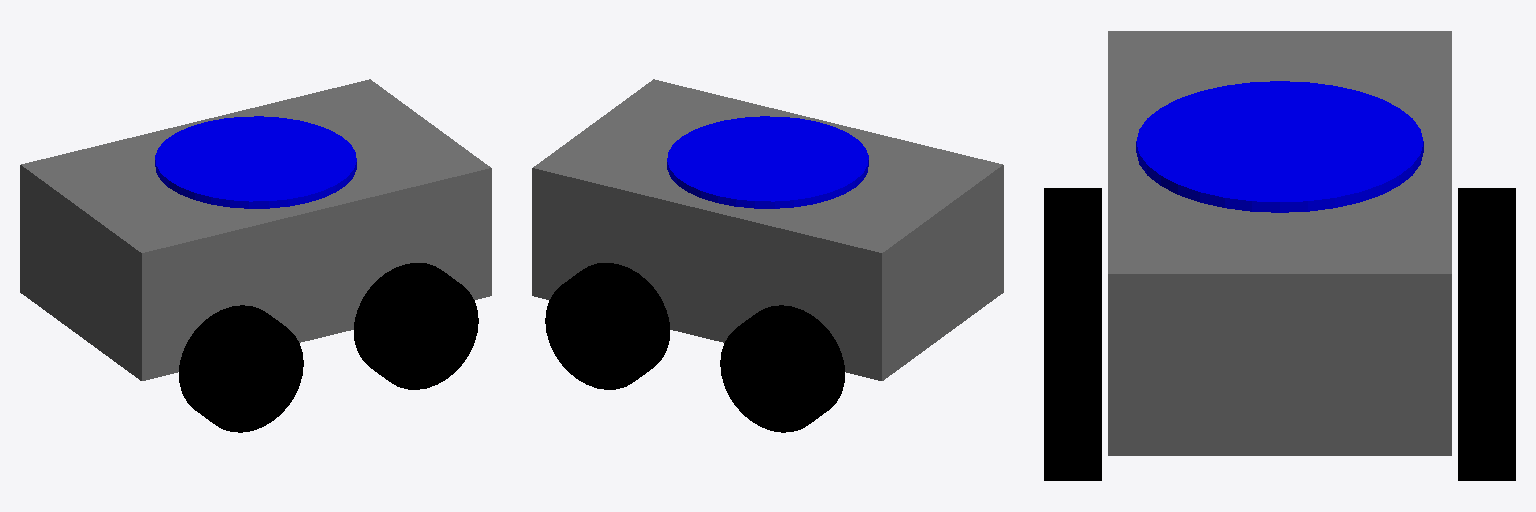
The robot description file, URDF, robot "mobile_charger":
<?xml version="1.0"?>
<robot name="mobile_charger">

  <!-- ================= BASE ================= -->
  <link name="base_link">
    <visual>
      <geometry>
        <box size="1.0 0.6 0.35"/>
      </geometry>
      <material name="grey">
        <color rgba="0.5 0.5 0.5 1.0"/>
      </material>
    </visual>
    <collision>
      <geometry>
        <box size="1.0 0.6 0.35"/>
      </geometry>
    </collision>
    <inertial>
      <mass value="30.0"/>
      <inertia ixx="2.0" iyy="2.5" izz="3.0" ixy="0" ixz="0" iyz="0"/>
    </inertial>
  </link>

  <!-- ================= WHEEL MACRO ================= -->
  <!-- We define links manually for clarity -->

  <!-- FRONT LEFT -->
  <link name="front_left_wheel">
    <visual>
      <origin rpy="1.5707 0 0"/>
      <geometry>
        <cylinder radius="0.15" length="0.1"/>
      </geometry>
      <material name="black">
        <color rgba="0 0 0 1"/>
      </material>
    </visual>
    <!-- SPOKE FOR ROTATION VISUALIZATION -->
    <visual>
      <origin rpy="0 0 0"/> 
      <geometry>
        <box size="0.25 0.02 0.11"/>
      </geometry>
      <material name="white">
        <color rgba="1 1 1 1"/>
      </material>
    </visual>
    <collision>
      <origin rpy="1.5707 0 0"/>
      <geometry>
        <cylinder radius="0.15" length="0.1"/>
      </geometry>
    </collision>
    <inertial>
      <mass value="2.0"/>
      <inertia ixx="0.02" iyy="0.02" izz="0.01" ixy="0" ixz="0" iyz="0"/>
    </inertial>
  </link>

  <!-- FRONT RIGHT -->
  <link name="front_right_wheel">
    <visual>
      <origin rpy="1.5707 0 0"/>
      <geometry>
        <cylinder radius="0.15" length="0.1"/>
      </geometry>
      <material name="black">
        <color rgba="0 0 0 1"/>
      </material>
    </visual>
    <visual>
       <origin rpy="0 0 0"/> 
       <geometry>
         <box size="0.25 0.02 0.11"/>
       </geometry>
       <material name="white">
         <color rgba="1 1 1 1"/>
       </material>
    </visual>
    <collision>
      <origin rpy="1.5707 0 0"/>
      <geometry>
        <cylinder radius="0.15" length="0.1"/>
      </geometry>
    </collision>
    <inertial>
      <mass value="2.0"/>
      <inertia ixx="0.02" iyy="0.02" izz="0.01" ixy="0" ixz="0" iyz="0"/>
    </inertial>
  </link>

  <!-- REAR LEFT (Passive) -->
  <link name="rear_left_wheel">
    <visual>
      <origin rpy="1.5707 0 0"/>
      <geometry>
        <cylinder radius="0.15" length="0.1"/>
      </geometry>
      <material name="black">
        <color rgba="0 0 0 1"/>
      </material>
    </visual>
    <visual>
       <origin rpy="0 0 0"/> 
       <geometry>
         <box size="0.25 0.02 0.11"/>
       </geometry>
       <material name="white"/>
    </visual>
    <collision>
      <origin rpy="1.5707 0 0"/>
      <geometry>
        <cylinder radius="0.15" length="0.1"/>
      </geometry>
    </collision>
    <inertial>
      <mass value="2.0"/>
      <inertia ixx="0.02" iyy="0.02" izz="0.01" ixy="0" ixz="0" iyz="0"/>
    </inertial>
  </link>

  <!-- REAR RIGHT (Passive) -->
  <link name="rear_right_wheel">
    <visual>
      <origin rpy="1.5707 0 0"/>
      <geometry>
        <cylinder radius="0.15" length="0.1"/>
      </geometry>
      <material name="black">
        <color rgba="0 0 0 1"/>
      </material>
    </visual>
     <visual>
       <origin rpy="0 0 0"/> 
       <geometry>
         <box size="0.25 0.02 0.11"/>
       </geometry>
       <material name="white"/>
    </visual>
    <collision>
      <origin rpy="1.5707 0 0"/>
      <geometry>
        <cylinder radius="0.15" length="0.1"/>
      </geometry>
    </collision>
    <inertial>
      <mass value="2.0"/>
      <inertia ixx="0.02" iyy="0.02" izz="0.01" ixy="0" ixz="0" iyz="0"/>
    </inertial>
  </link>

  <!-- ================= JOINTS ================= -->
  <!-- FRONT DRIVEN -->
  <joint name="front_left_joint" type="continuous">
    <parent link="base_link"/>
    <child link="front_left_wheel"/>
    <origin xyz="0.25 0.36 -0.175" rpy="0 0 0"/>
    <axis xyz="0 1 0"/>
  </joint>

  <joint name="front_right_joint" type="continuous">
    <parent link="base_link"/>
    <child link="front_right_wheel"/>
    <origin xyz="0.25 -0.36 -0.175" rpy="0 0 0"/>
    <axis xyz="0 1 0"/>
  </joint>

  <!-- REAR PASSIVE -->
  <joint name="rear_left_joint" type="continuous">
    <parent link="base_link"/>
    <child link="rear_left_wheel"/>
    <origin xyz="-0.25 0.36 -0.175" rpy="0 0 0"/>
    <axis xyz="0 1 0"/>
  </joint>

  <joint name="rear_right_joint" type="continuous">
    <parent link="base_link"/>
    <child link="rear_right_wheel"/>
    <origin xyz="-0.25 -0.36 -0.175" rpy="0 0 0"/>
    <axis xyz="0 1 0"/>
  </joint>

  <!-- ================= CHARGING PAD ================= -->
  <link name="charging_pad">
    <visual>
      <geometry>
        <cylinder radius="0.25" length="0.02"/>
      </geometry>
      <material name="blue">
        <color rgba="0 0 1 1"/>
      </material>
    </visual>
  </link>

  <joint name="pad_joint" type="fixed">
    <parent link="base_link"/>
    <child link="charging_pad"/>
    <origin xyz="0 0 0.185"/>
  </joint>

  <!-- ================= GAZEBO PLUGIN ================= -->
  <gazebo>
    <plugin name="diff_drive" filename="libgazebo_ros_diff_drive.so">
      <!-- Drive Front Wheels -->
      <leftJoint>front_left_joint</leftJoint>
      <rightJoint>front_right_joint</rightJoint>

      <wheelSeparation>0.72</wheelSeparation>
      <wheelDiameter>0.3</wheelDiameter>
      <wheelAcceleration>1.0</wheelAcceleration>
      <wheelTorque>20</wheelTorque>

      <robotBaseFrame>base_link</robotBaseFrame>
      <commandTopic>cmd_vel</commandTopic>
      <odometryTopic>odom</odometryTopic>
      <odometryFrame>odom</odometryFrame>
      <odometrySource>1</odometrySource>

      <publishTf>true</publishTf>
      <publishOdomTF>true</publishOdomTF>
      <publishWheelTF>true</publishWheelTF>
      <publishWheelJointState>true</publishWheelJointState>
      
      <rosDebugLevel>na</rosDebugLevel>
      <updateRate>30</updateRate>
    </plugin>
  </gazebo>

  <!-- ================= GAZEBO MATERIALS ================= -->
  <gazebo reference="base_link">
    <material>Gazebo/Grey</material>
  </gazebo>
  
  <gazebo reference="charging_pad">
    <material>Gazebo/Blue</material>
  </gazebo>

  <gazebo reference="front_left_wheel">
    <material>Gazebo/Black</material>
    <mu1>0.8</mu1> <mu2>0.8</mu2>
  </gazebo>
  <gazebo reference="front_right_wheel">
    <material>Gazebo/Black</material>
    <mu1>0.8</mu1> <mu2>0.8</mu2>
  </gazebo>
  <gazebo reference="rear_left_wheel">
    <material>Gazebo/Black</material>
    <mu1>0.0</mu1> <mu2>0.0</mu2> <!-- Slippery rear wheels to prevent diff drive binding -->
  </gazebo>
  <gazebo reference="rear_right_wheel">
    <material>Gazebo/Black</material>
    <mu1>0.0</mu1> <mu2>0.0</mu2>
  </gazebo>

</robot>

--- Render facts (derived) ---
3 views of the same robot in one strip: view 1: azimuth 30°, elevation 25°; view 2: azimuth 150°, elevation 25°; view 3: azimuth 270°, elevation 25° (orthographic).
Robot: mobile_charger — 6 links, 5 joints (4 continuous, 1 fixed); root link base_link; default pose: every joint at zero.
Links seen in each view (by area): view 1: base_link, charging_pad, rear_right_wheel, front_right_wheel; view 2: base_link, charging_pad, rear_left_wheel, front_left_wheel; view 3: base_link, charging_pad, front_left_wheel, front_right_wheel, rear_left_wheel, rear_right_wheel.
Boxes of the visible links, bbox=[...] form: base_link: bbox=[20, 79, 491, 380]; charging_pad: bbox=[155, 116, 356, 208]; rear_right_wheel: bbox=[179, 305, 303, 432]; front_right_wheel: bbox=[354, 263, 478, 389]; base_link: bbox=[532, 79, 1003, 380]; charging_pad: bbox=[667, 116, 868, 208]; rear_left_wheel: bbox=[720, 305, 844, 432]; front_left_wheel: bbox=[545, 263, 669, 389]; base_link: bbox=[1108, 31, 1451, 455]; charging_pad: bbox=[1136, 81, 1423, 212]; front_left_wheel: bbox=[1458, 309, 1515, 480]; front_right_wheel: bbox=[1044, 309, 1101, 480]; rear_left_wheel: bbox=[1458, 188, 1515, 308]; rear_right_wheel: bbox=[1044, 188, 1101, 308].
Bounding box of the posed robot: 1 × 0.82 × 0.52 m (x, y, z).
Geometry: primitives only (box / cylinder / sphere), no mesh files.